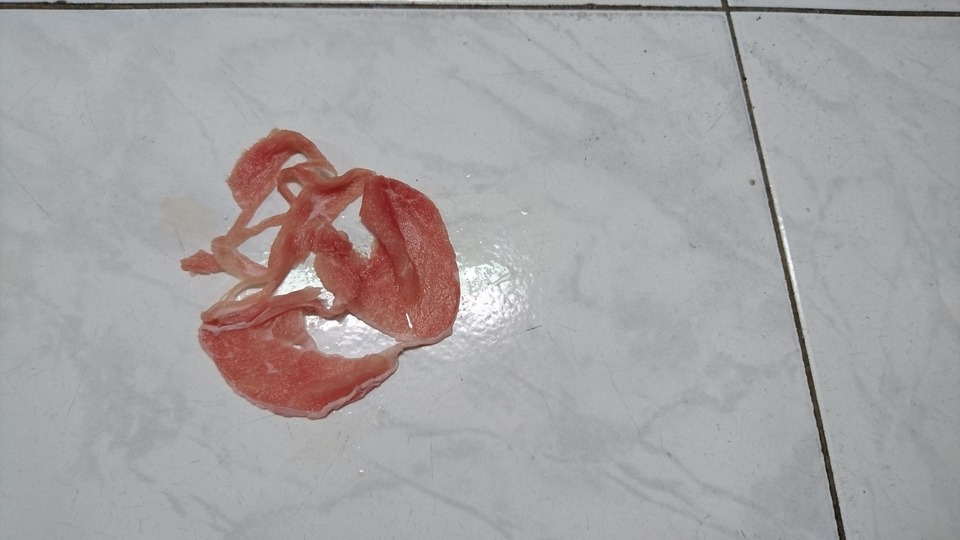restructured meat: (182, 126, 462, 422)
